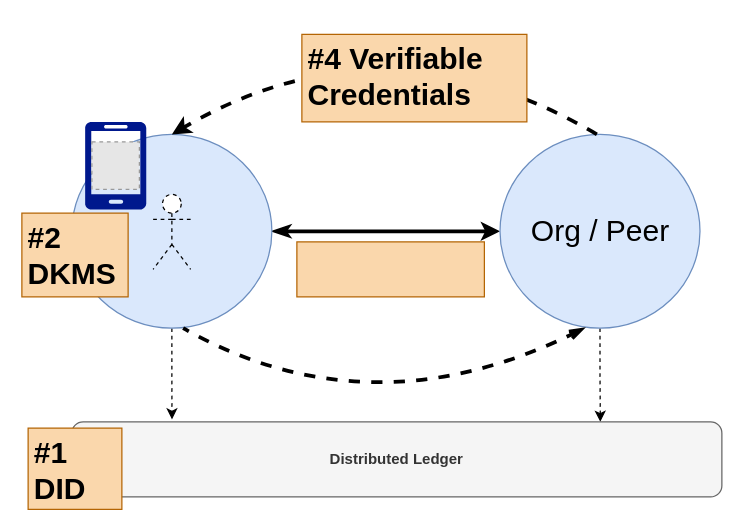
Some shapes in this 744 by 531 pixel diagram are drawn without their labels. Grey dashed boxes stand in for pictures. The shapes that lost their labels are listed below. From the top down, each one's box as (x1, y1, x2, y2) in pixels, then its label:
(152, 193, 191, 269): You
(296, 241, 484, 297): #3 DID Auth
